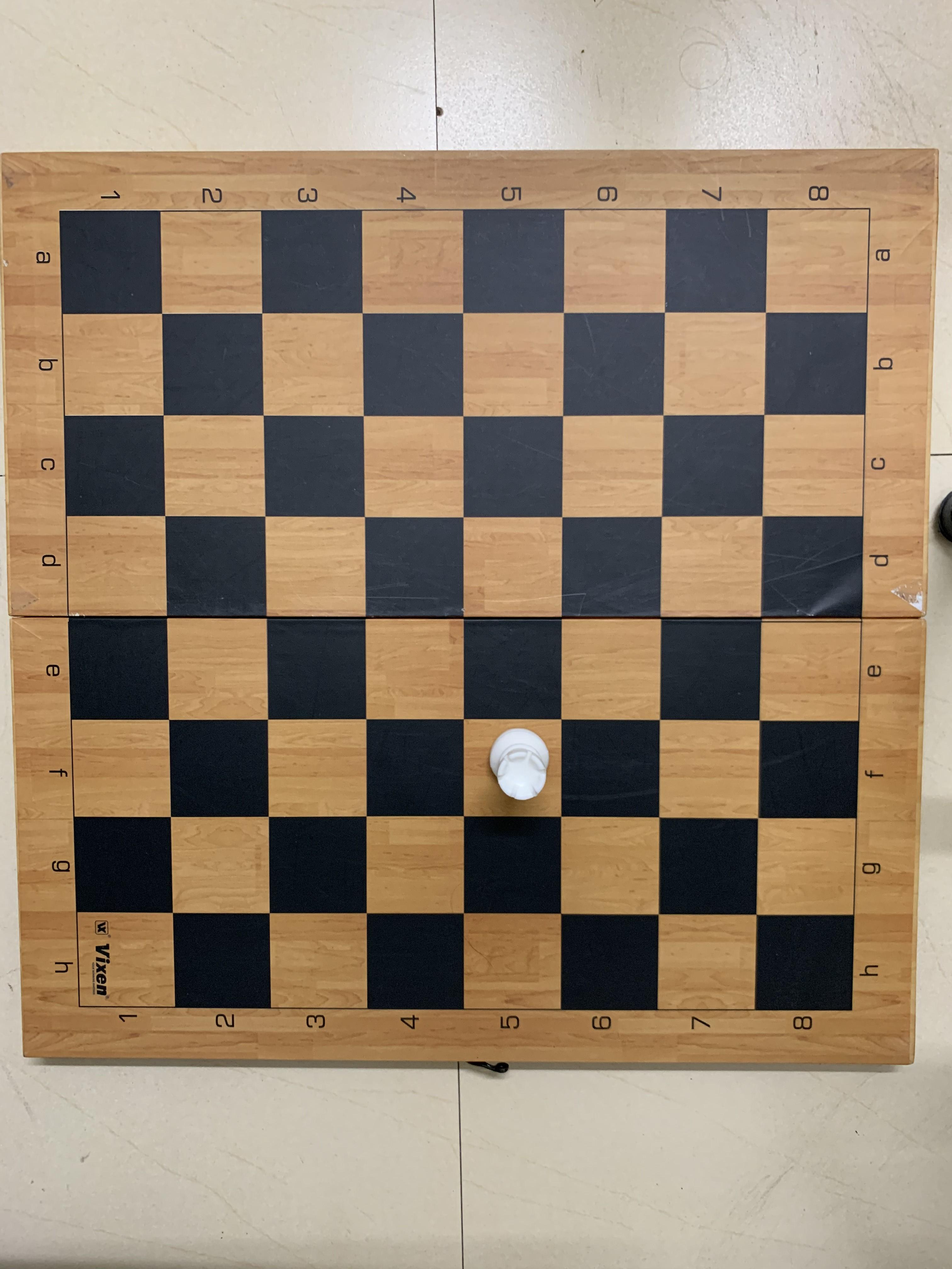white_rook: (463, 721, 556, 809)
